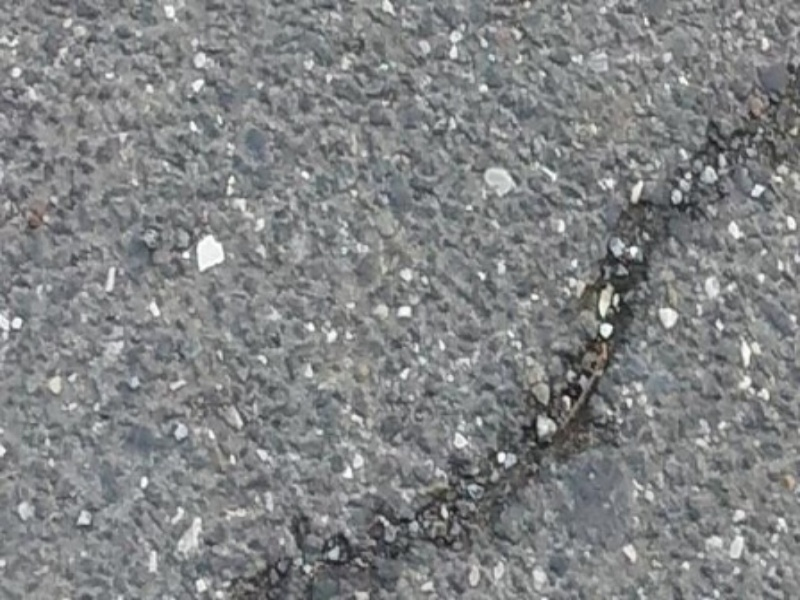crack: (240, 67, 792, 587)
